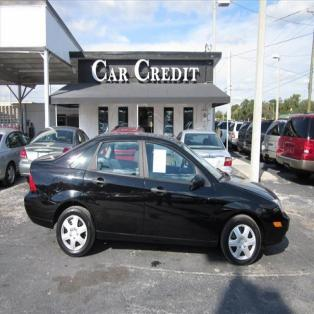Auto: (23, 128, 291, 267)
